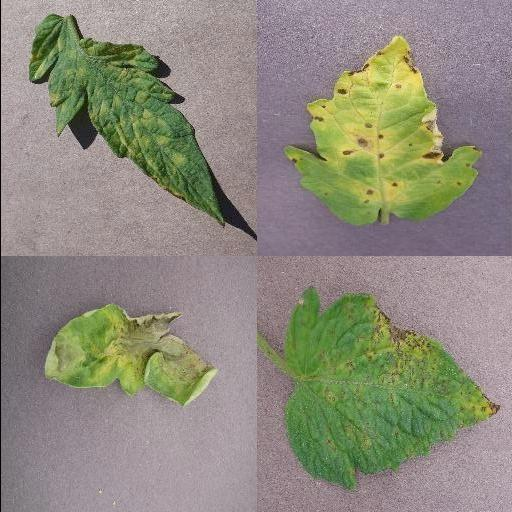Late Blight: (41, 302, 217, 408)
Leaf Mold: (28, 15, 224, 228)
Septoria: (284, 283, 500, 493), (283, 36, 483, 228)
